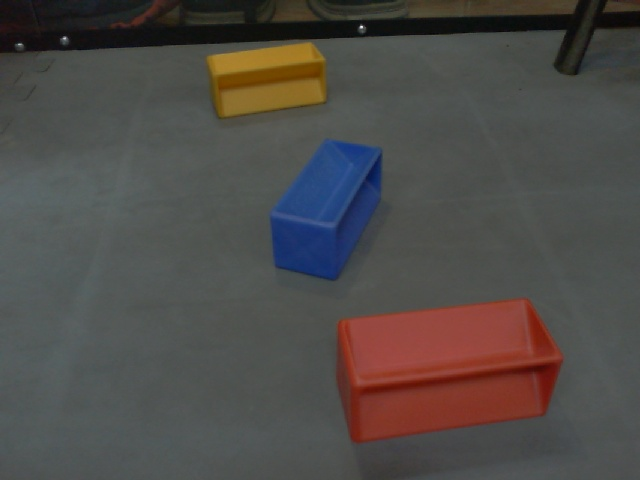BlueSample: (265, 136, 385, 281)
RedSample: (330, 295, 565, 445)
YellowSample: (202, 38, 328, 122)
